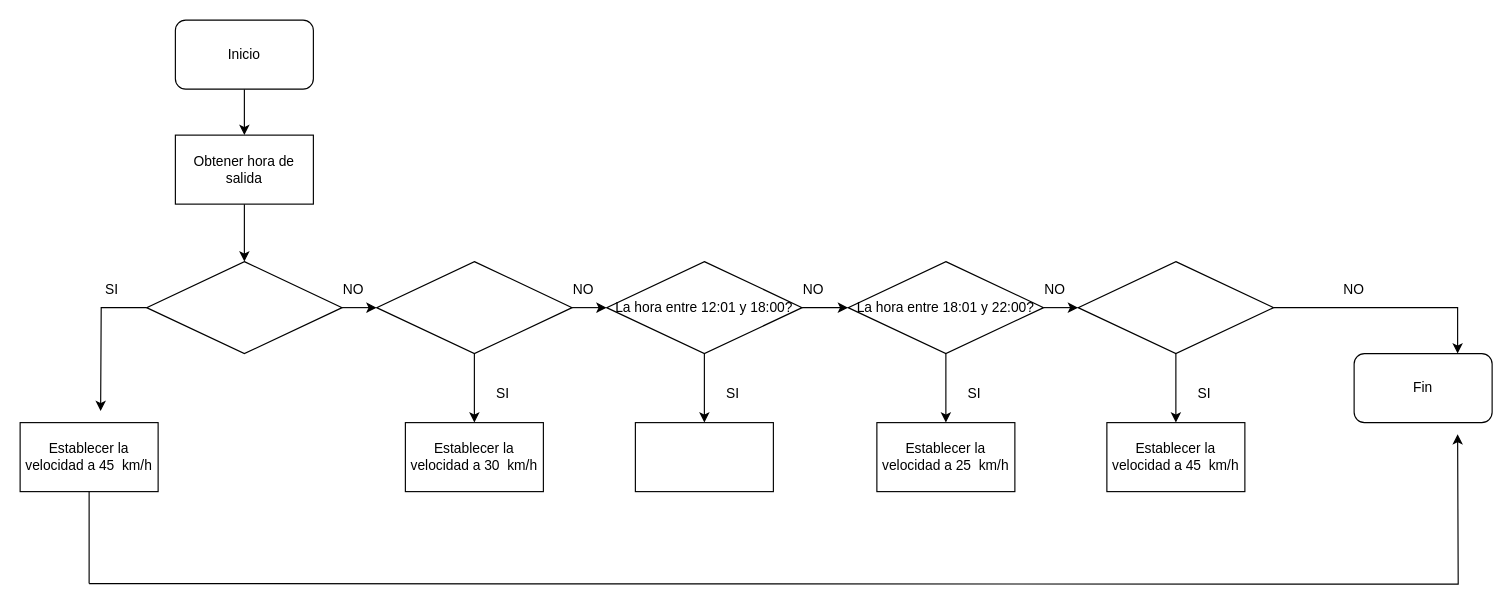
Some shapes in this 1512 by 614 pixel diagram are drawn without their labels. Here are the shapes that lost their labels. From the top down, the centre of each, then its label:
the point at 243,307: La hora entre 00:00 y 08:00?
the point at 473,307: La hora entre 08:01 y 12:00?
the point at 1175,307: La hora entre 22:01 y 00:00?
the point at 703,456: Establecer la velocidad a 40 km/h
